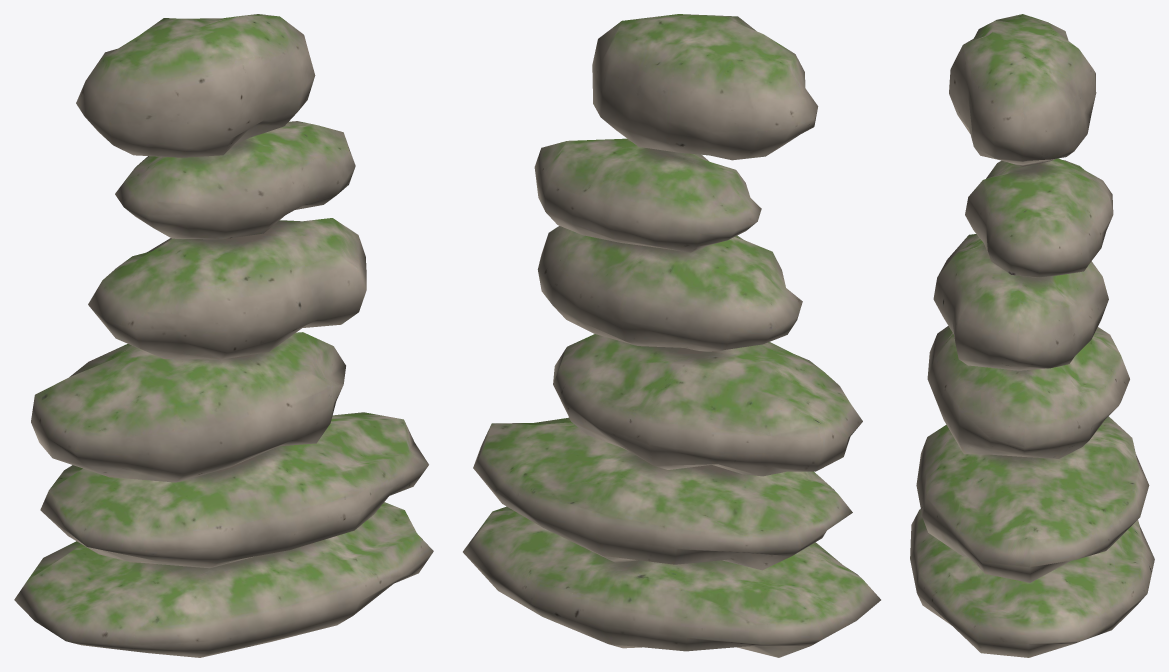
Rendered from cliff.glb.
3 renders of one model, left to right at view 1: azimuth 30°, elevation 25°; view 2: azimuth 150°, elevation 25°; view 3: azimuth 270°, elevation 25°, orthographic. The views are drawn at different scales.
Parts seen in each view (by area): view 1: cliff; view 2: cliff; view 3: cliff.
Boxes of the visible parts, x1,y1,x2,y2 form: cliff: [14, 14, 433, 657]; cliff: [463, 14, 880, 657]; cliff: [910, 14, 1154, 657].
Bounding box in the file's own units: 5.98 × 9.06 × 3.65.
Materials: 1 (1 with a texture image).
